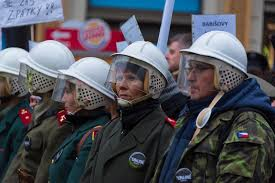Person_wearing_helmet: (177, 27, 246, 76), (107, 37, 166, 83)
